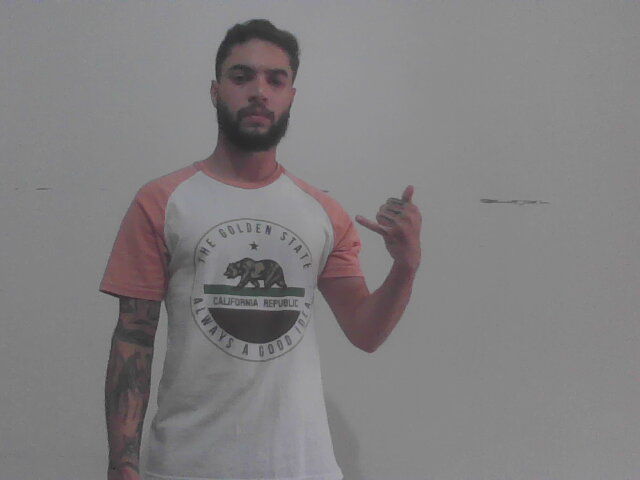j: (354, 178, 428, 269)
